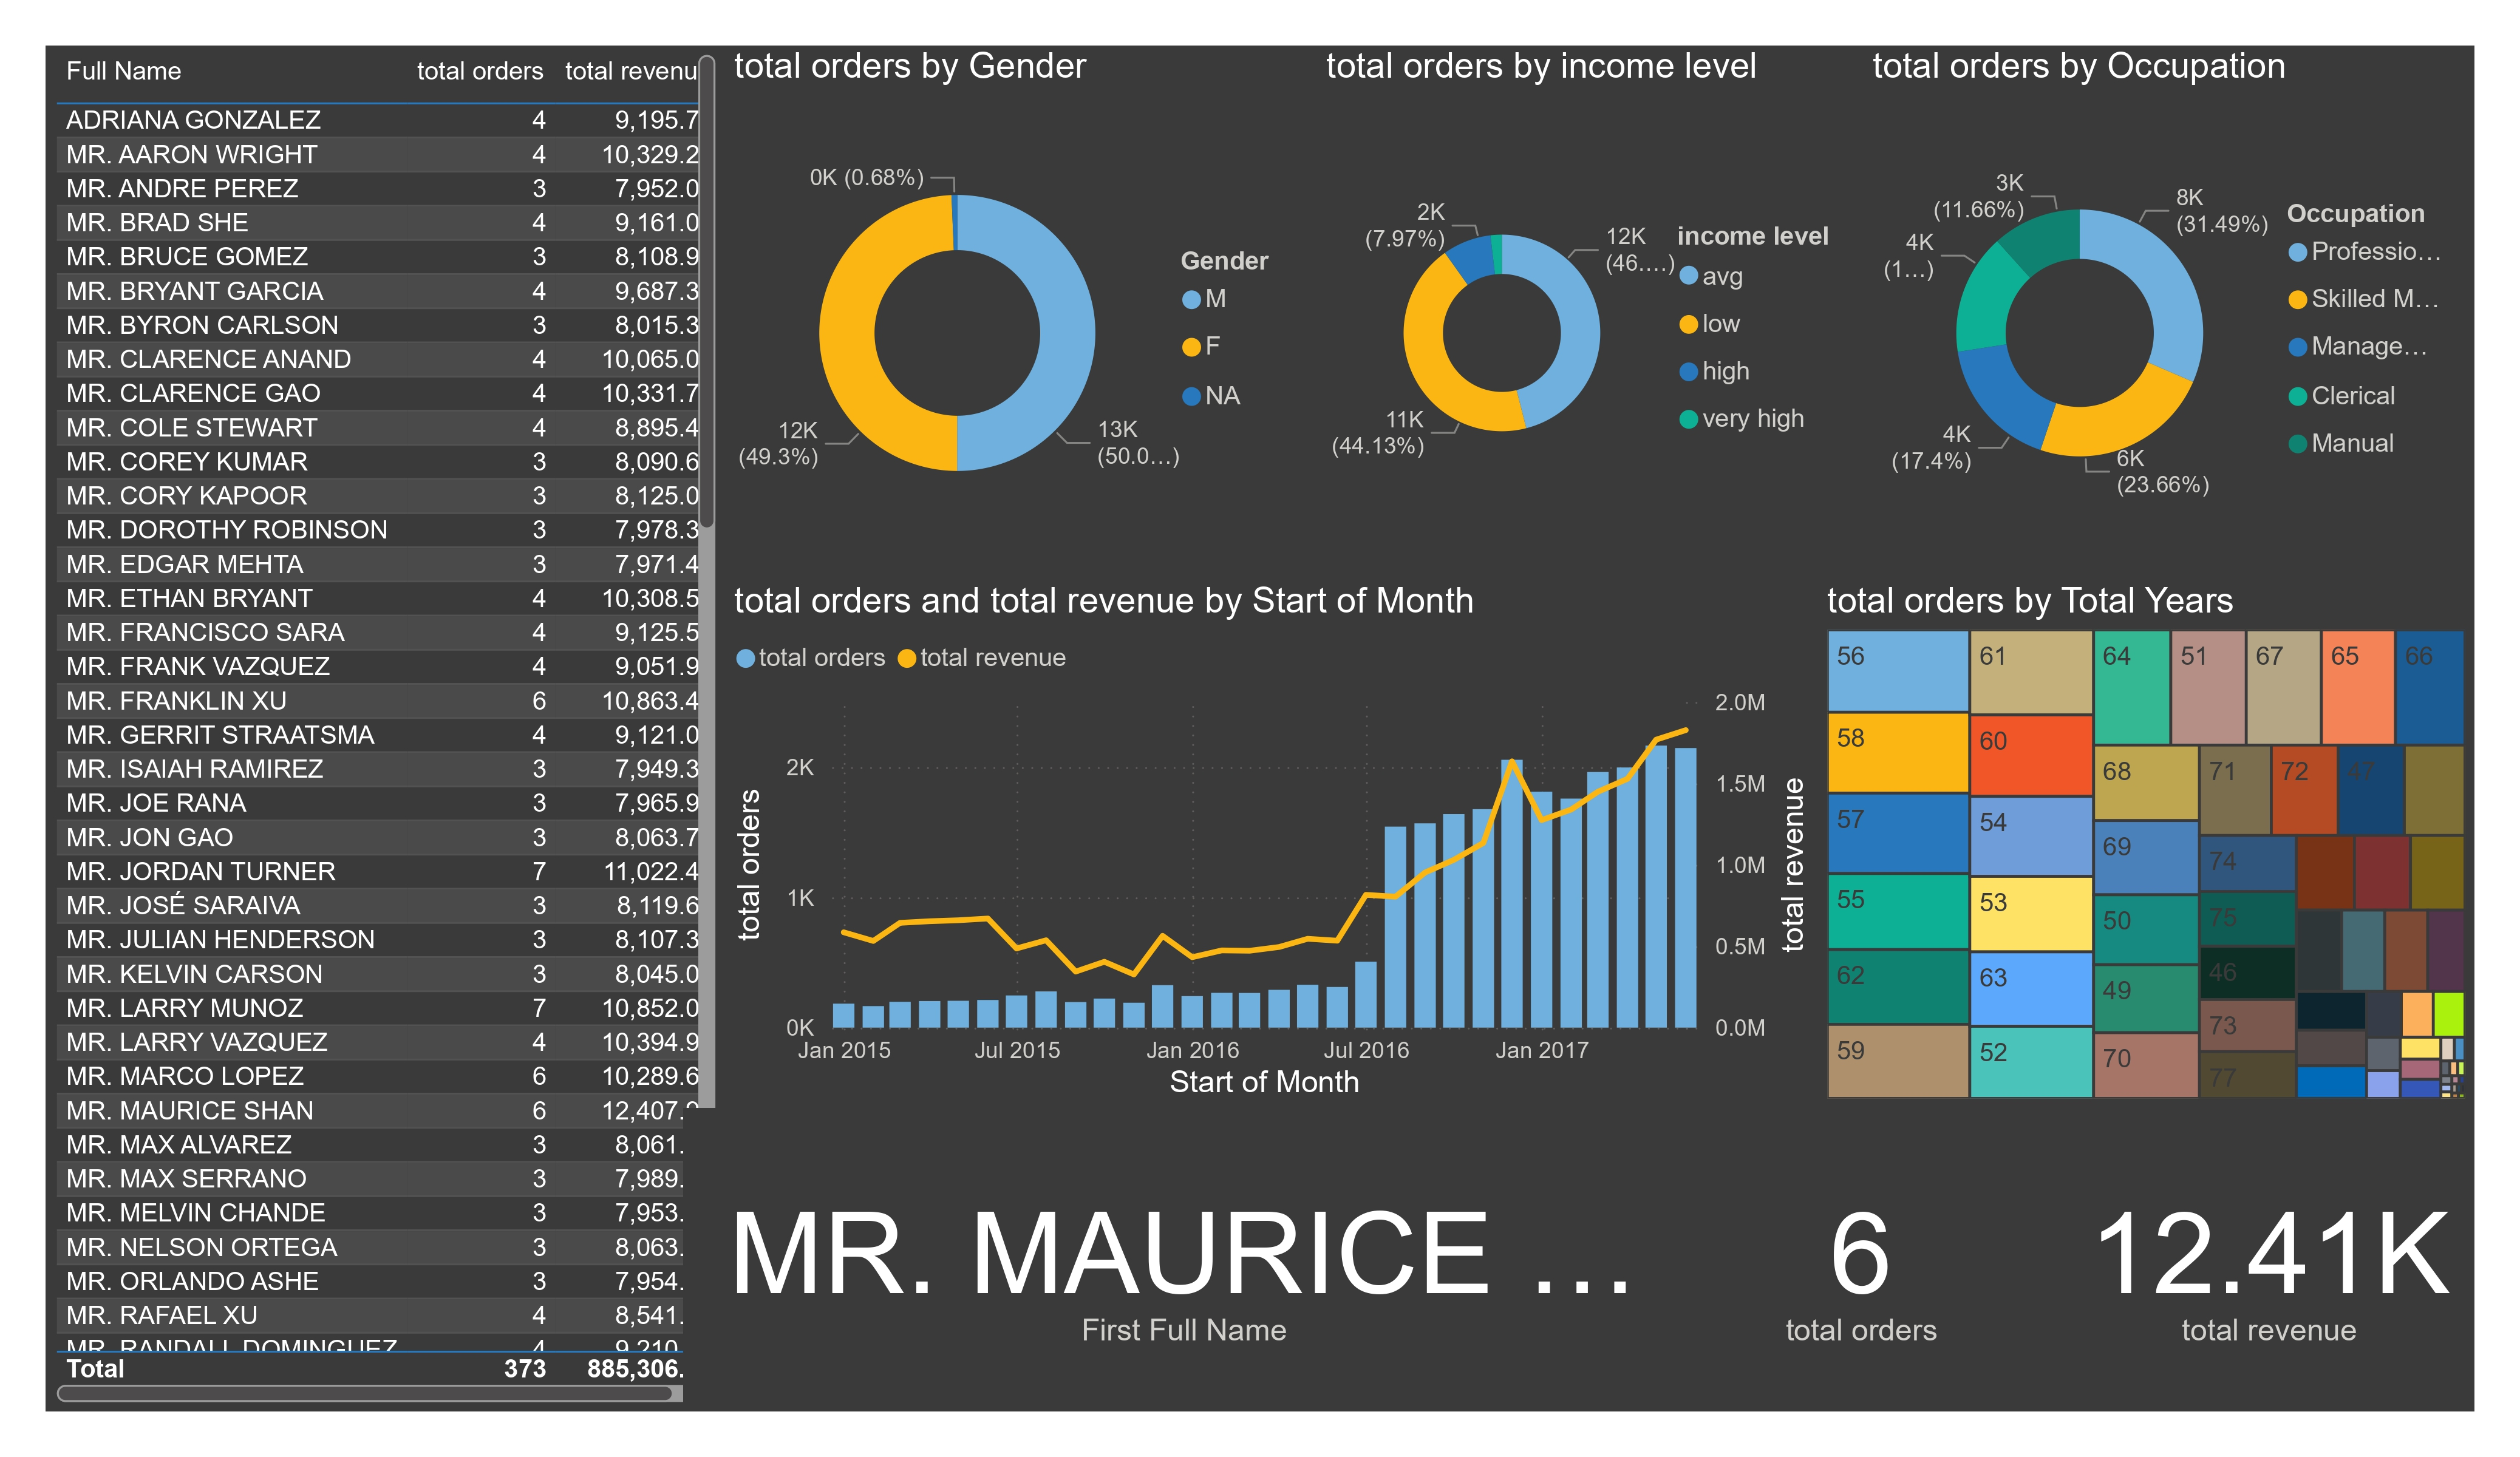

The dashboard page shown, as its layout file describes it:
{"tool":"powerbi","page":{"name":"Customer details","canvas":[1280,720],"ordinal":2},"visuals":[{"type":"tableEx","fields":{"Values":["AW_Customers_lookup.Full Name","AW_Sales_lookup.total orders","AW_Sales_lookup.total revenue"]},"box":[0,0,358,720],"z":0},{"type":"donutChart","fields":{"Y":["AW_Sales_lookup.total orders"],"Category":["AW_Customers_lookup.Gender"]},"box":[358,0,312,282],"z":1000},{"type":"donutChart","fields":{"Y":["AW_Sales_lookup.total orders"],"Category":["AW_Customers_lookup.Occupation"]},"box":[958,0,322,282],"z":2000},{"type":"lineStackedColumnComboChart","fields":{"Y2":["AW_Sales_lookup.total revenue"],"Y":["AW_Sales_lookup.total orders"],"Category":["AW_Calendar_lookup.Start of Month"]},"box":[358,282,576,278],"z":3000},{"type":"donutChart","fields":{"Y":["AW_Sales_lookup.total orders"],"Category":["AW_Customers_lookup.income level"]},"box":[670,0,288,282],"z":4000},{"type":"treemap","fields":{"Values":["AW_Sales_lookup.total orders"],"Group":["AW_Customers_lookup.Total Years"]},"box":[934,282,346,278],"z":5000},{"type":"card","fields":{"Values":["Min(AW_Customers_lookup.Full Name)"]},"box":[336,560,528,160],"z":6000},{"type":"card","fields":{"Values":["AW_Sales_lookup.total orders"]},"box":[850,560,214,160],"z":7000},{"type":"card","fields":{"Values":["AW_Sales_lookup.total revenue"]},"box":[1064,560,216,160],"z":8000}]}

Visuals, with their boxes on the page's 1280x720 design canvas (x1, y1, x2, y2). These are canvas units, not pixel positions in the 2520x1457 screenshot, which may show the page scaled, cropped or inside an application window:
tableEx - AW_Customers_lookup.Full Name x AW_Sales_lookup.total orders: (left=0, top=0, right=358, bottom=720)
donutChart - AW_Sales_lookup.total orders x AW_Customers_lookup.Gender: (left=358, top=0, right=670, bottom=282)
donutChart - AW_Sales_lookup.total orders x AW_Customers_lookup.Occupation: (left=958, top=0, right=1280, bottom=282)
lineStackedColumnComboChart - AW_Sales_lookup.total revenue x AW_Sales_lookup.total orders: (left=358, top=282, right=934, bottom=560)
donutChart - AW_Sales_lookup.total orders x AW_Customers_lookup.income level: (left=670, top=0, right=958, bottom=282)
treemap - AW_Sales_lookup.total orders x AW_Customers_lookup.Total Years: (left=934, top=282, right=1280, bottom=560)
card - Min(AW_Customers_lookup.Full Name): (left=336, top=560, right=864, bottom=720)
card - AW_Sales_lookup.total orders: (left=850, top=560, right=1064, bottom=720)
card - AW_Sales_lookup.total revenue: (left=1064, top=560, right=1280, bottom=720)
